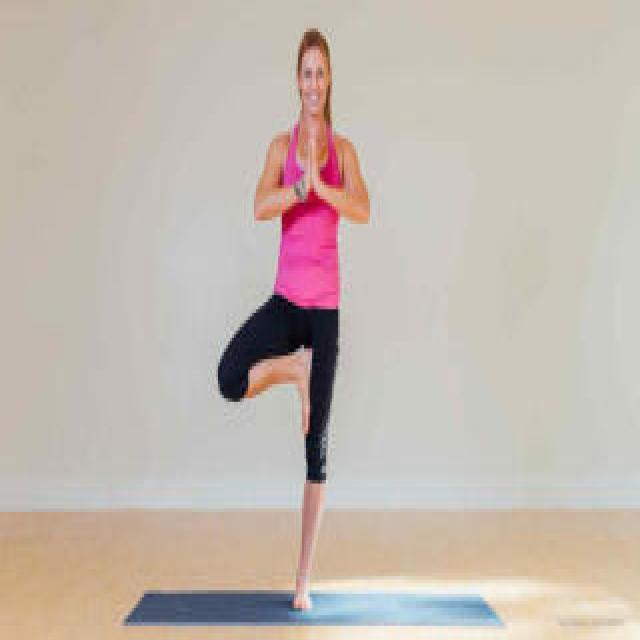yoga-pose tree: (213, 31, 375, 615)
